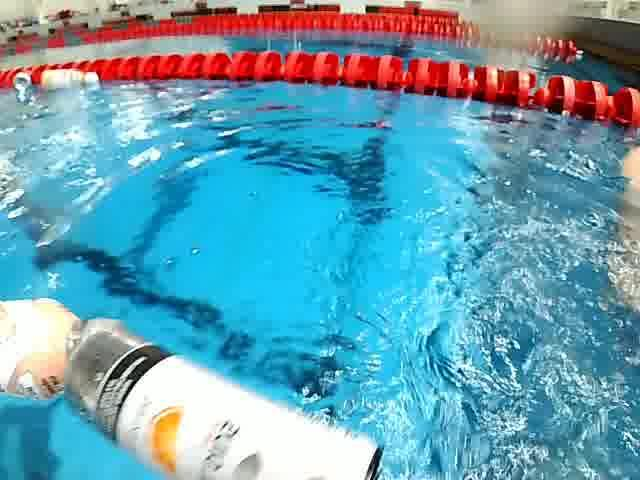Bottle: (0, 286, 86, 412), (32, 65, 102, 94)
Can: (72, 315, 406, 479), (13, 68, 29, 96)
